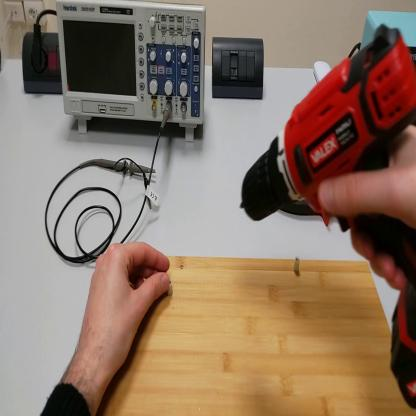electric screwdriver: (241, 24, 416, 409)
hand: (319, 121, 416, 284), (78, 241, 172, 379)
oscilloscope: (57, 4, 208, 145)
oscilloscope probe tip: (92, 159, 159, 178)
socket: (23, 31, 64, 98)
welder station: (361, 11, 415, 66)
working area: (97, 255, 416, 416)
